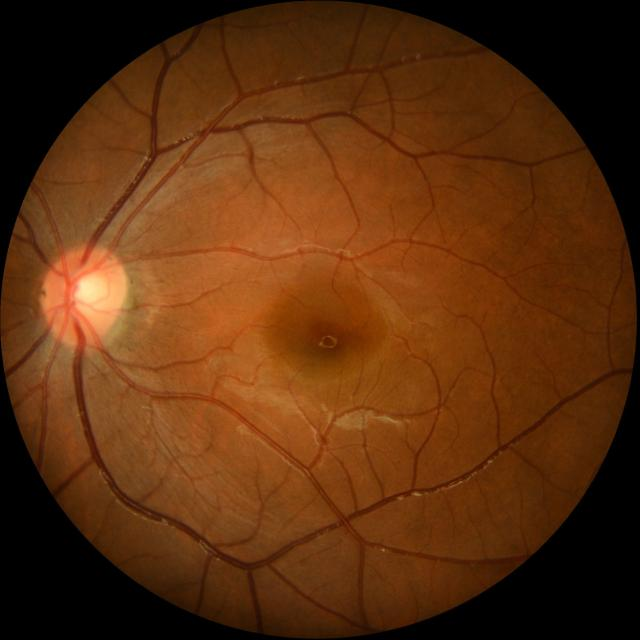OC: (66, 269, 108, 318)
OD: (42, 248, 126, 345)
